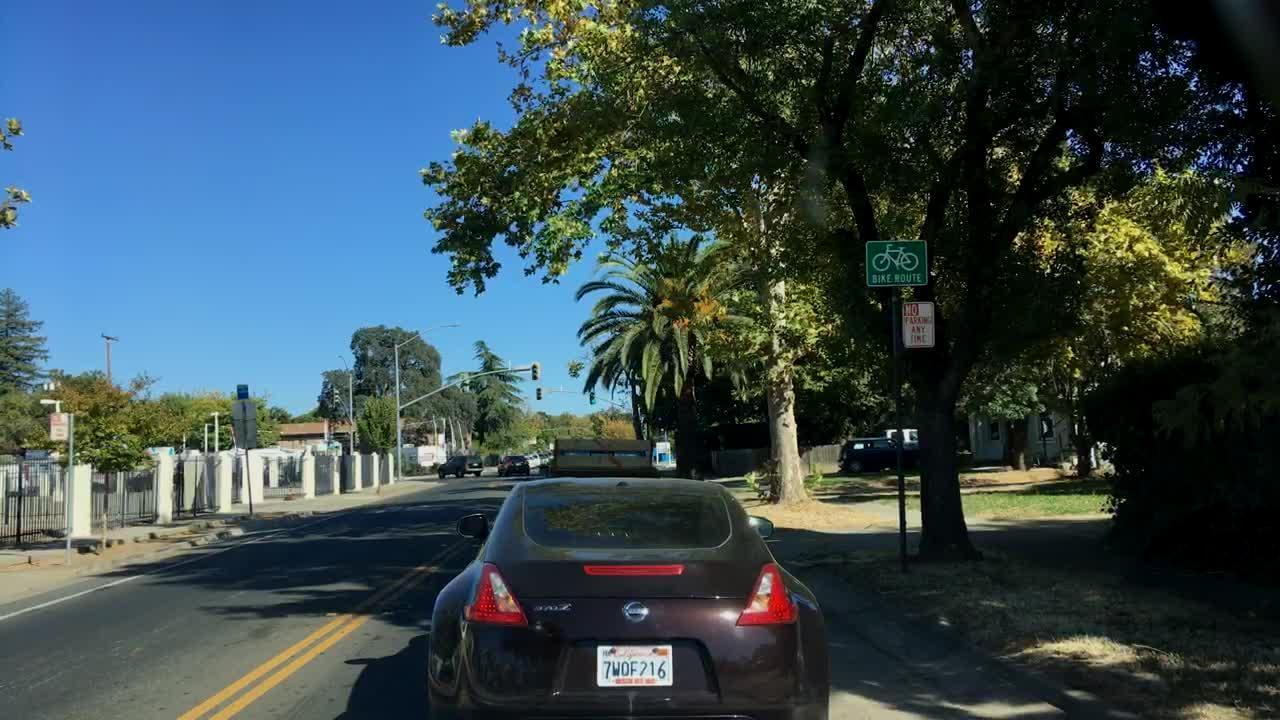Nissan: (620, 601, 650, 624)
